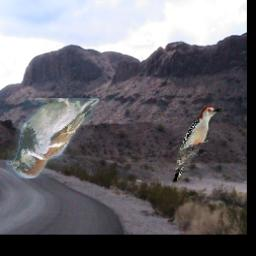Sparrow: (6, 99, 99, 179)
Woodpecker: (173, 105, 223, 182)
